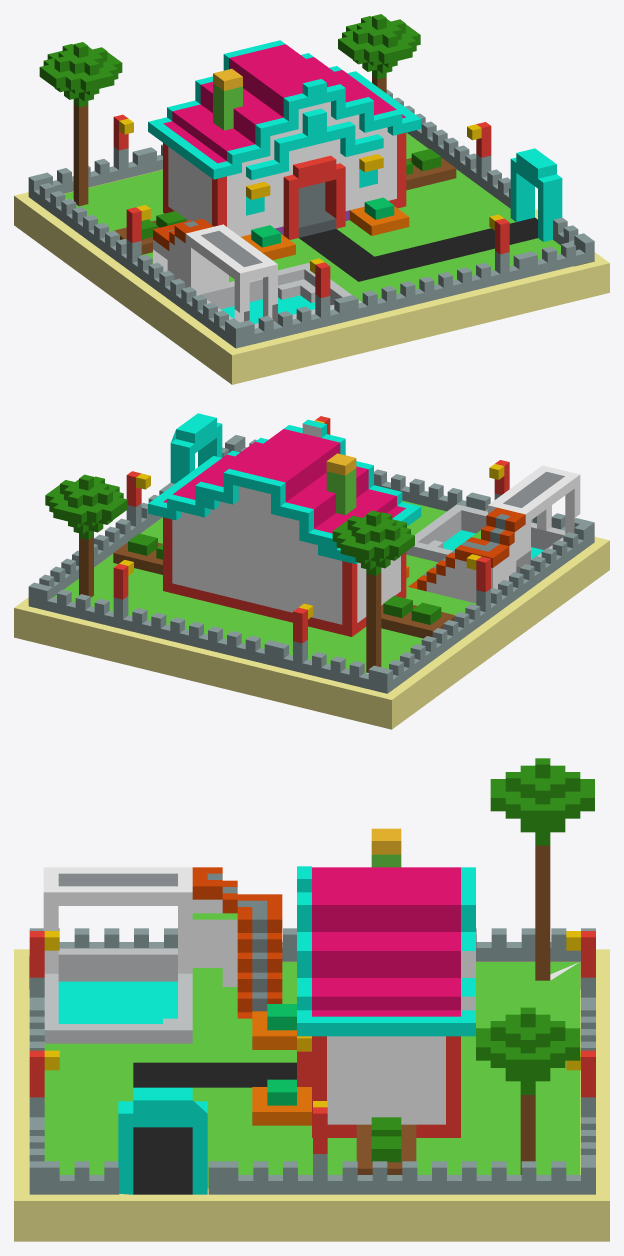
File: house.glb
3 views of the same model, one above another, from view 1: azimuth 30°, elevation 25°; view 2: azimuth 150°, elevation 25°; view 3: azimuth 270°, elevation 25° (orthographic). The views are drawn at different scales.
Visible parts, largest first — view 1: voxel home; view 2: voxel home; view 3: voxel home.
Part boxes in pixels (<box>): voxel home: <box>14,14,609,384</box>; voxel home: <box>14,413,609,729</box>; voxel home: <box>14,758,609,1241</box>.
Bounding box in the file's own units: 17.2 × 8.17 × 17.2.
1 material, 1 textured.
